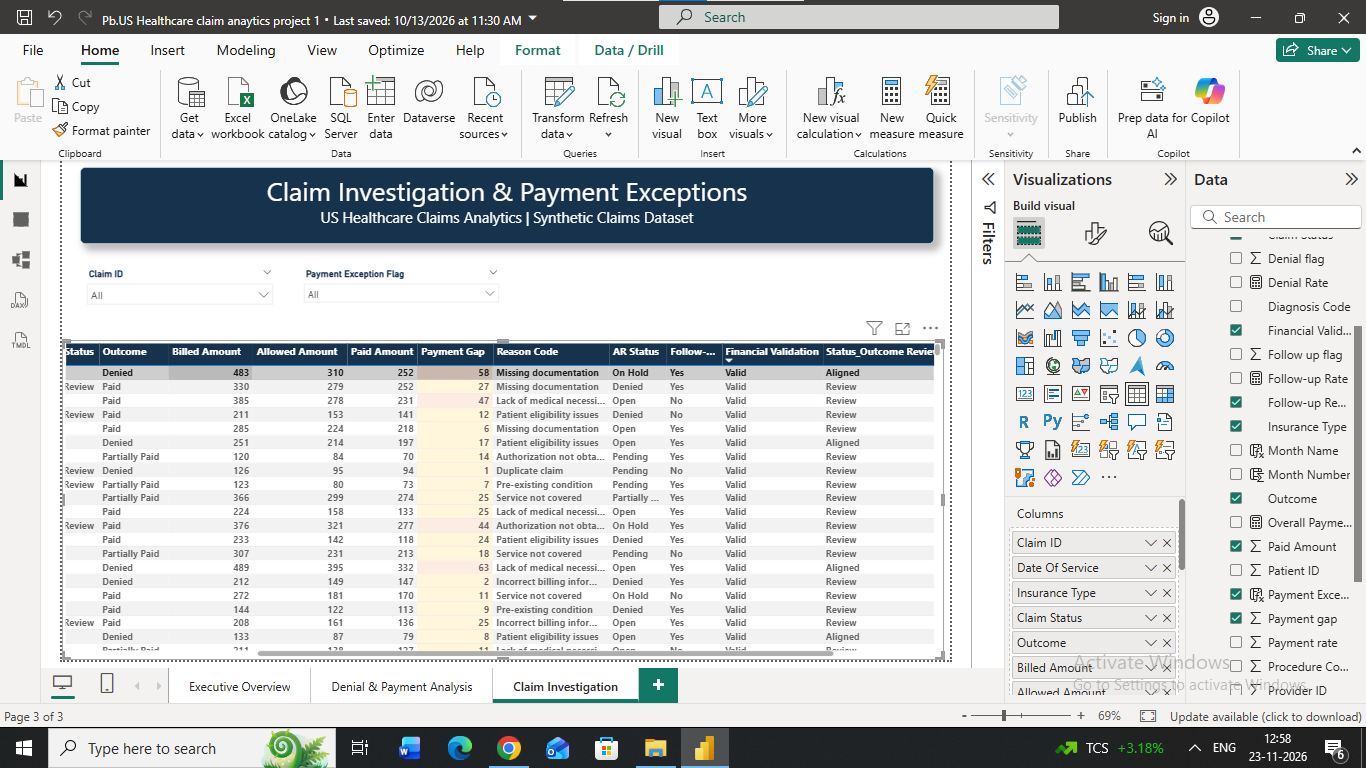

What the dashboard file says about the page in this screenshot:
{"tool":"powerbi","page":{"name":"Claim Investigation","canvas":[1280,720],"ordinal":2},"visuals":[{"type":"slicer","fields":{"Values":["claim_data.Claim ID"]},"box":[25.9,151.2,288,80.6],"z":0},{"type":"tableEx","fields":{"Values":["claim_data.Claim ID","claim_data.Service Date Cleaned","claim_data.Insurance Type","claim_data.Claim Status","claim_data.Outcome","claim_data.Billed Amount","claim_data.Allowed Amount","claim_data.Paid Amount","claim_data.Payment gap","claim_data.Reason Code","claim_data.AR Status","claim_data.Follow-up Required"]},"box":[0,259.2,1270.1,460.8],"z":1000},{"type":"textbox","box":[25.9,10.1,1229.8,110.9],"z":2000},{"type":"slicer","fields":{"Values":["claim_data.Payment Exception Flag"]},"box":[338.4,151.2,301,80.6],"z":3000}]}

Visuals, with their boxes on the page's 1280x720 design canvas (x1, y1, x2, y2). These are canvas units, not pixel positions in the 1366x768 screenshot, which may show the page scaled, cropped or inside an application window:
slicer - claim_data.Claim ID: 26, 151, 314, 232
tableEx - claim_data.Claim ID x claim_data.Service Date Cleaned: 0, 259, 1270, 720
textbox: 26, 10, 1256, 121
slicer - claim_data.Payment Exception Flag: 338, 151, 639, 232
